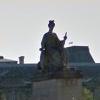Statue: (36, 13, 72, 77)
